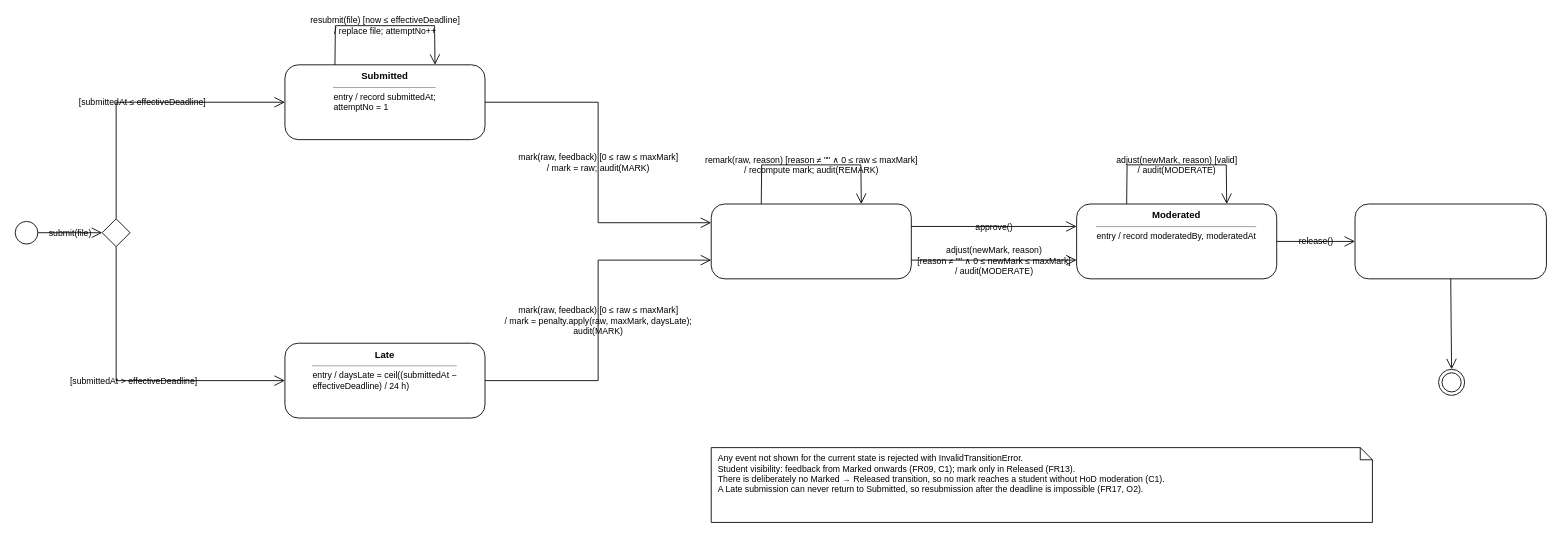
Image size: 1562x538. Some labels were removed from this diagram. The centre of each missing label's shape, as x and y in pixels:
"Marked entry / feedback visible to student (mark still hidden)" belongs at (810,241).
"Released entry / releasedAt = now; mark + feedback visible" belongs at (1450,241).
